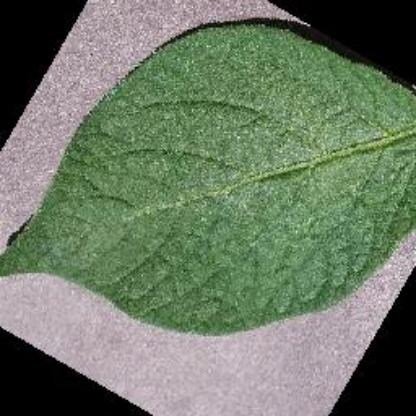Healthy-plant: (2, 15, 416, 340)
